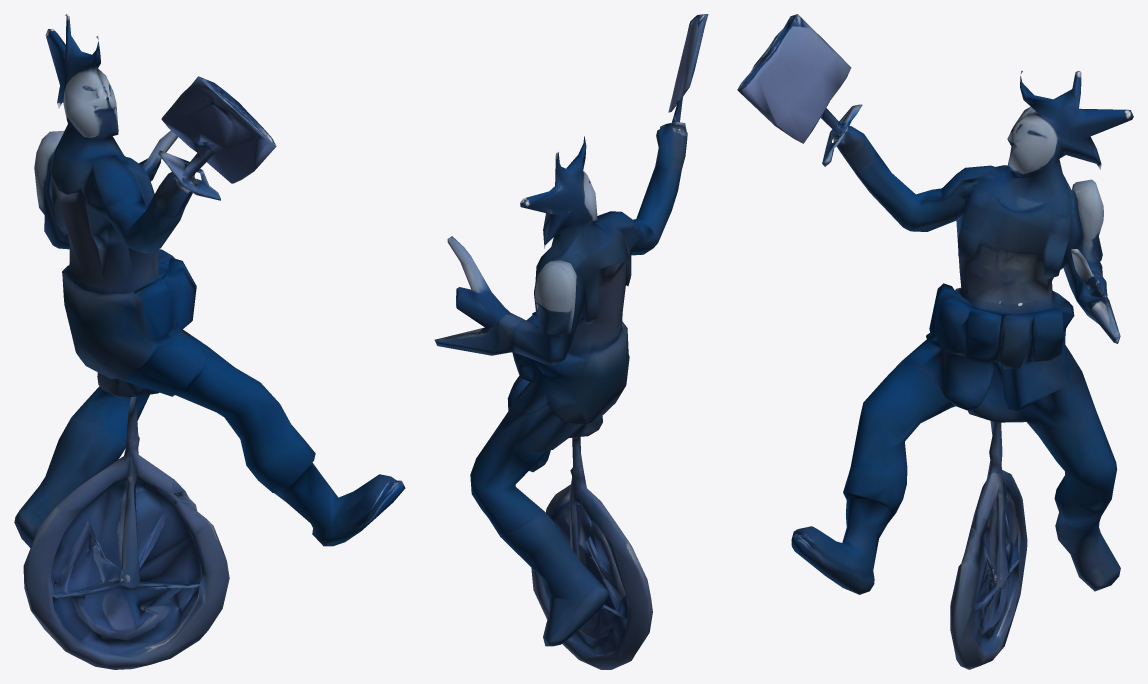
3 renders of one model, left to right at view 1: azimuth 30°, elevation 25°; view 2: azimuth 150°, elevation 25°; view 3: azimuth 270°, elevation 25°, orthographic. The views are drawn at different scales.
Parts seen in each view (by area): view 1: tripo_node_641bccc5-c70f-437e-8923-5d0924090707; view 2: tripo_node_641bccc5-c70f-437e-8923-5d0924090707; view 3: tripo_node_641bccc5-c70f-437e-8923-5d0924090707.
Boxes of the visible parts, x1=… form: tripo_node_641bccc5-c70f-437e-8923-5d0924090707: x1=14, y1=14, x2=405, y2=669; tripo_node_641bccc5-c70f-437e-8923-5d0924090707: x1=434, y1=14, x2=708, y2=669; tripo_node_641bccc5-c70f-437e-8923-5d0924090707: x1=737, y1=14, x2=1133, y2=669.
Size of the model in its own units: 0.4185 by 0.9992 by 0.5673.
Materials: 1 (1 with a texture image).
